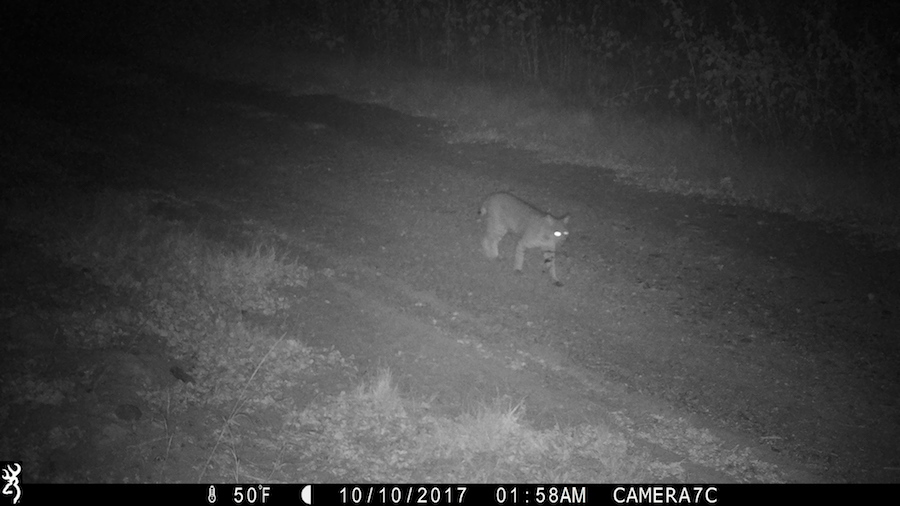bobcat: (472, 193, 584, 282)
